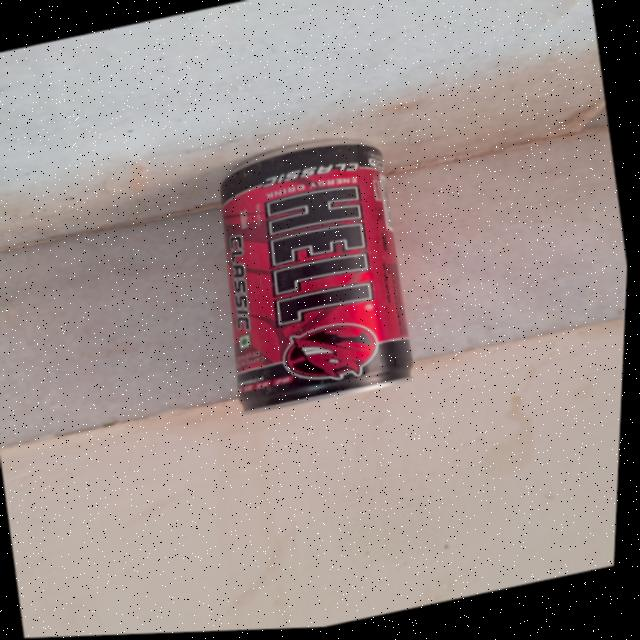Hell Classic: (186, 127, 446, 430)
